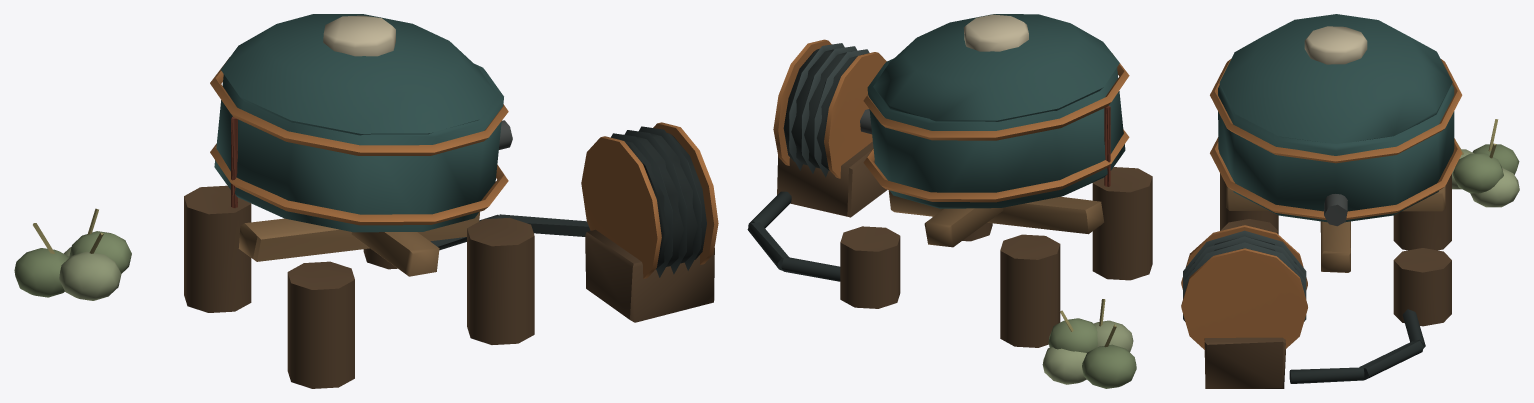
The model's file is water_tank_b_lod1.glb.
The picture shows the model from 3 angles, left to right: view 1: azimuth 30°, elevation 25°; view 2: azimuth 150°, elevation 25°; view 3: azimuth 270°, elevation 25°; orthographic projection. The views are drawn at different scales.
Parts seen in each view (by area): view 1: Surface.001; view 2: Surface.001; view 3: Surface.001.
Part boxes in pixels (x1,y1,x2,y2): Surface.001: (14, 14, 718, 388); Surface.001: (747, 14, 1152, 388); Surface.001: (1181, 14, 1519, 388).
Size of the model in its own units: 5.57 by 2.9 by 3.71.
